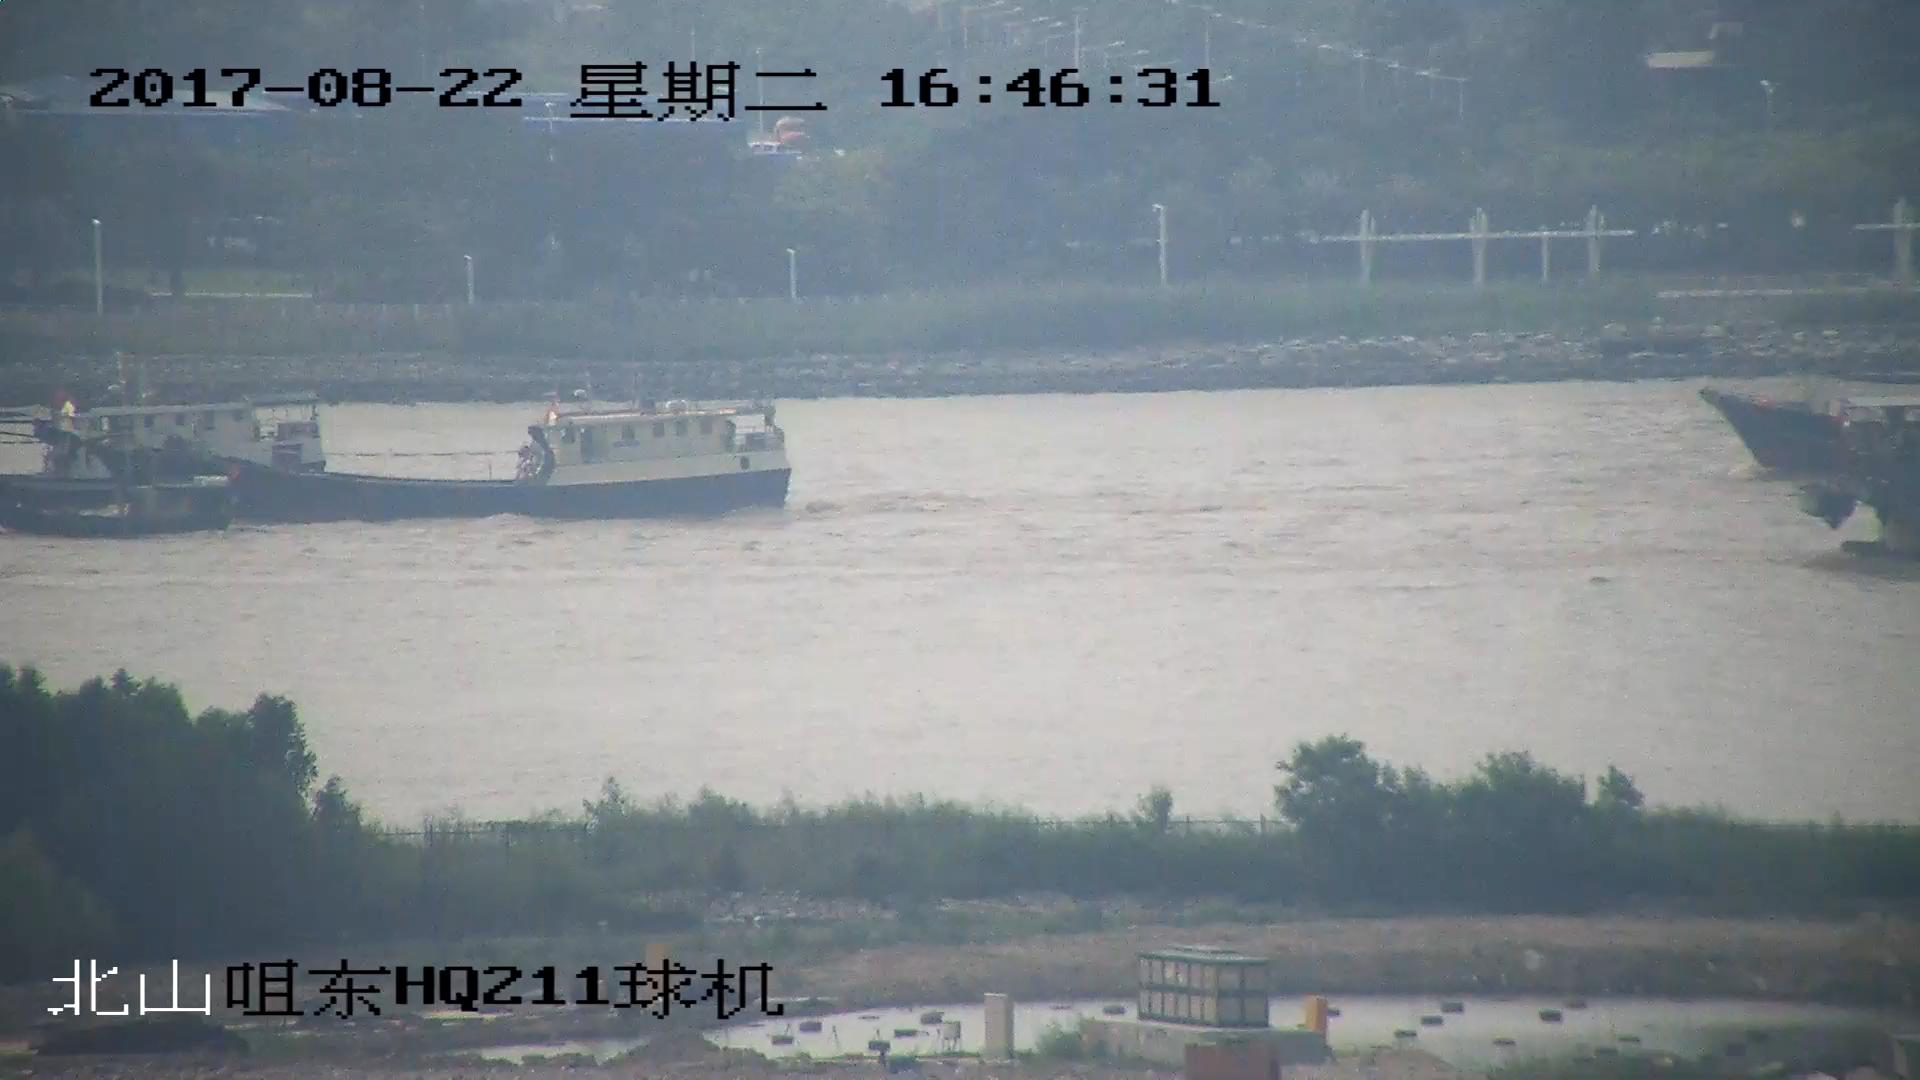fishing boat: (95, 401, 799, 514), (1, 401, 338, 512), (1, 479, 238, 527)
